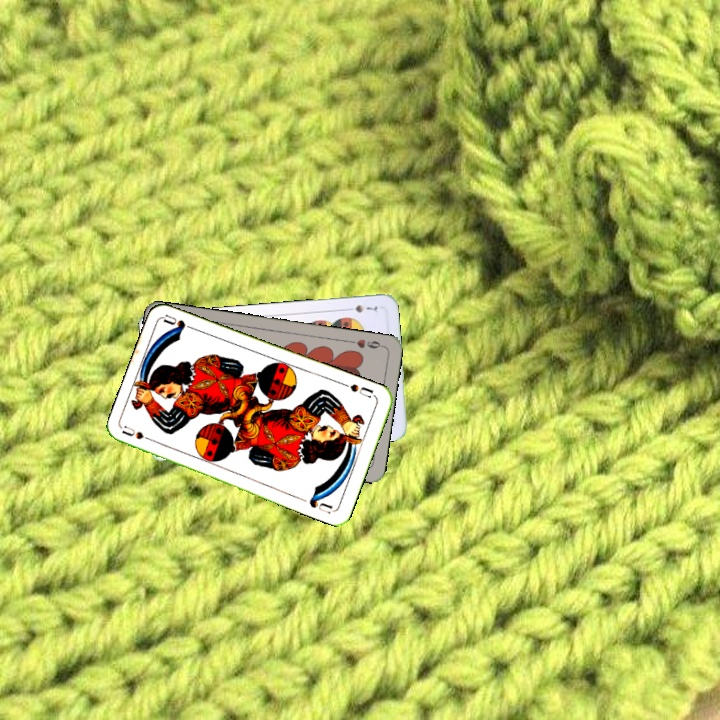H9: (346, 335, 386, 351)
S7: (341, 301, 380, 315)
SU: (119, 422, 159, 445), (339, 379, 376, 401)
